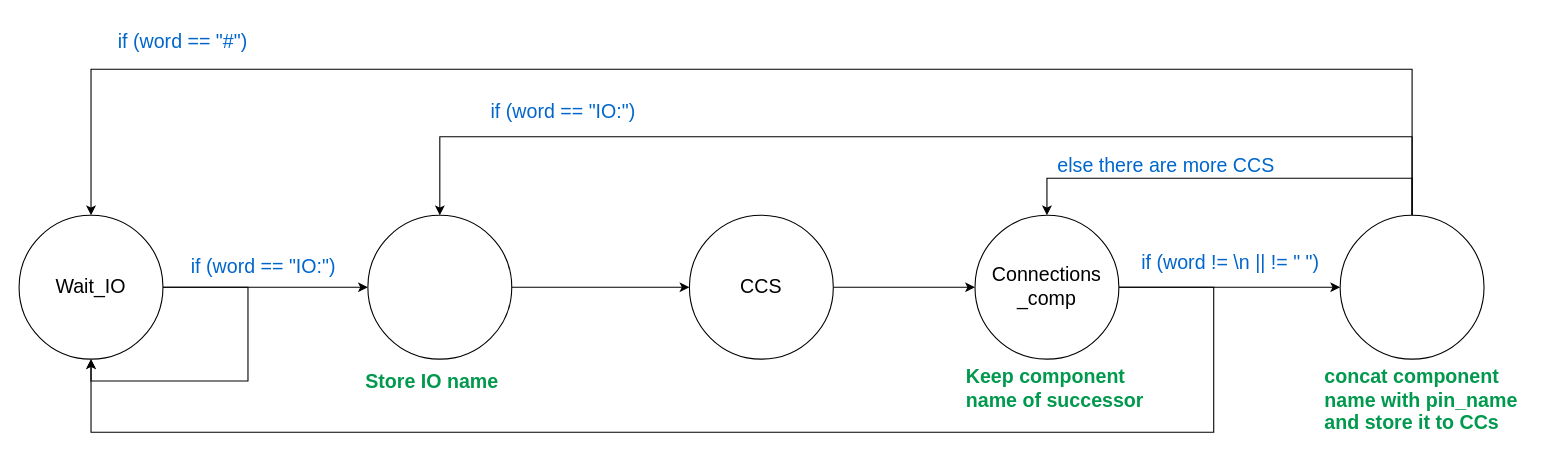
This 1553x460 diagram has some shape labels left out. Each missing label, with the box of its shape:
Connections: (1339, 214, 1484, 359)
Name_IO: (367, 214, 512, 359)
